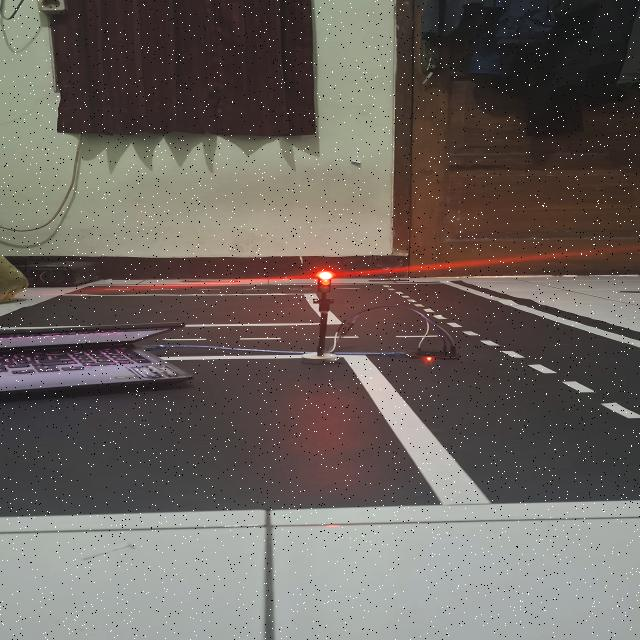Lampu Merah: (316, 270, 333, 294)
